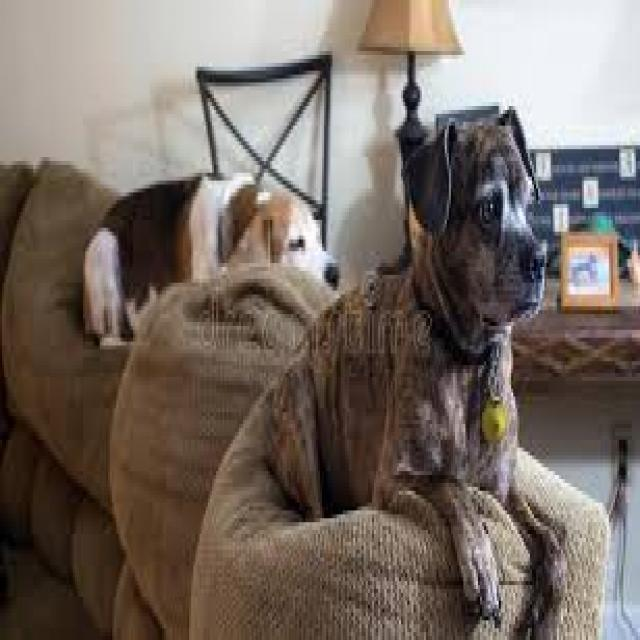Dog: (271, 104, 570, 626), (80, 162, 348, 348)
